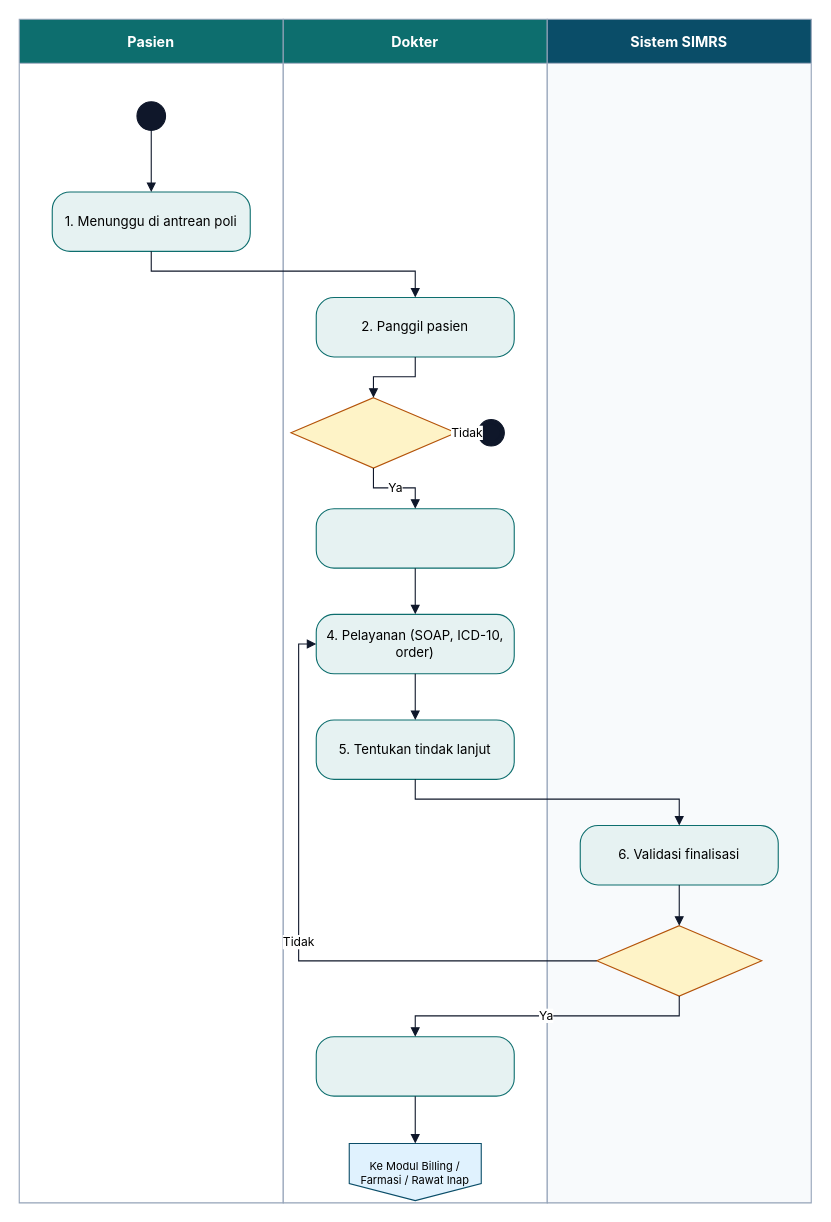
This 831x1222 diagram has some shape labels left out. The shapes that lost their labels are listed below. From the top down, each one's centre as x and y in pixels, then its label:
At (373,432): "Pasien hadir?".
At (490,432): "Kunjungan dibatalkan (status batal)".
At (414,538): "3. Mulai pemeriksaan".
At (679,960): "Diagnosis primer ada?".
At (414,1066): "7. Finalisasi kunjungan".
